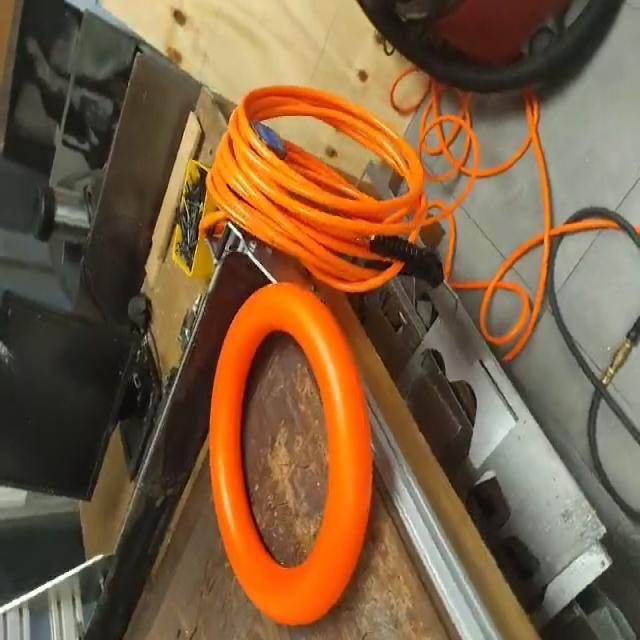note: (204, 283, 378, 628)
